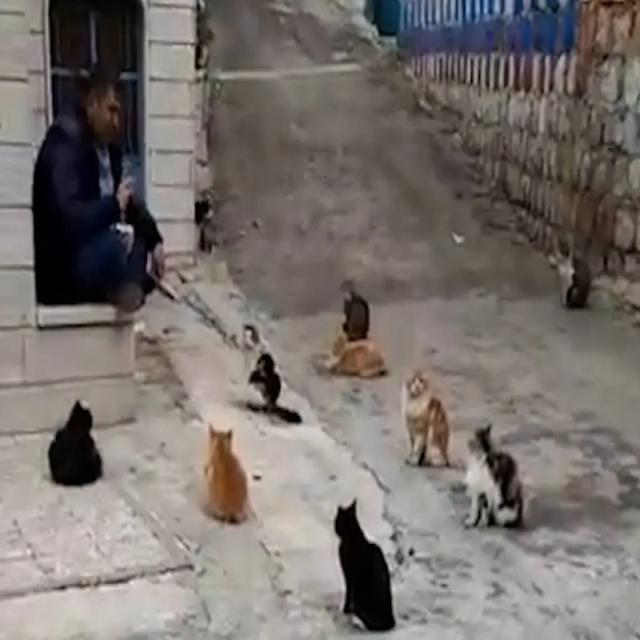cat: (335, 501, 395, 631), (465, 424, 524, 527), (241, 324, 301, 424), (402, 371, 450, 466), (49, 401, 101, 485), (205, 426, 248, 522), (311, 336, 388, 377), (549, 251, 591, 307), (340, 279, 370, 341)
